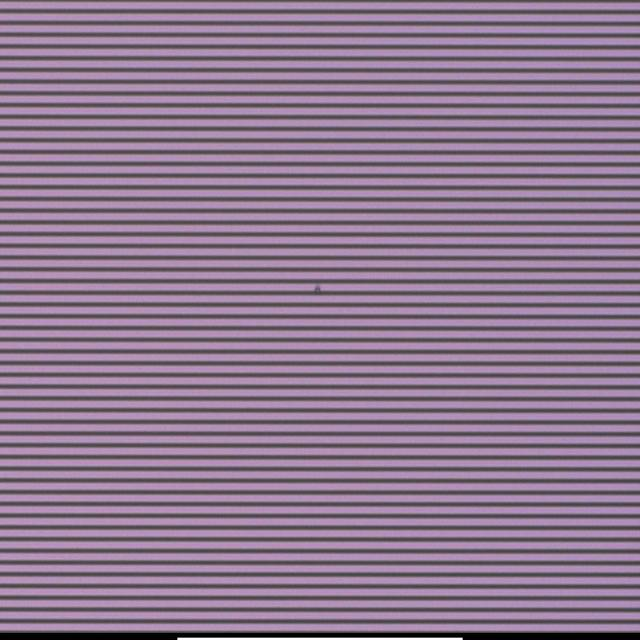03_intrusion: (312, 282, 322, 296)
